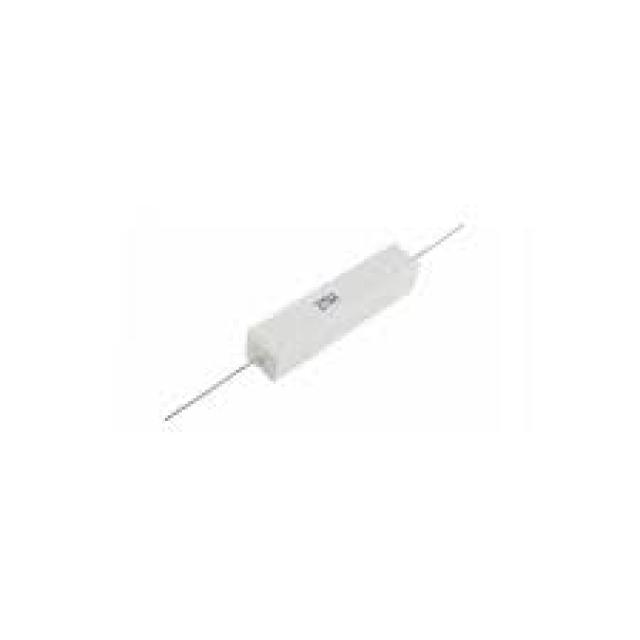Resistor: (245, 241, 418, 381)
